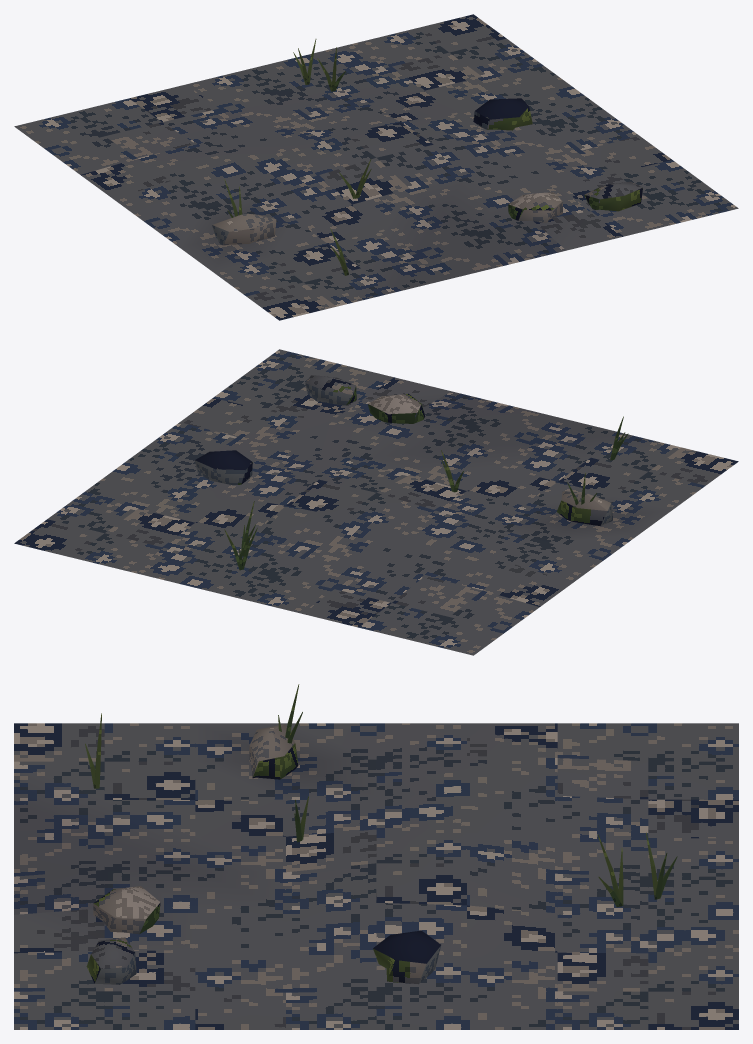
The model's file is lake.bed.glb.
The picture shows the model from 3 angles, top to bottom: view 1: azimuth 30°, elevation 25°; view 2: azimuth 150°, elevation 25°; view 3: azimuth 270°, elevation 25°; orthographic projection. The views are drawn at different scales.
Visible parts, largest first — view 1: kit_shell_bed, kit_rocks, kit_weeds; view 2: kit_shell_bed, kit_rocks, kit_weeds; view 3: kit_shell_bed, kit_rocks, kit_weeds.
Part boxes in pixels (x1,y1,x2,y2): kit_shell_bed: (14,14,738,320); kit_rocks: (212,98,642,245); kit_weeds: (224,39,371,275); kit_shell_bed: (14,349,738,655); kit_rocks: (194,375,612,525); kit_weeds: (224,416,628,570); kit_shell_bed: (14,723,738,1029); kit_rocks: (86,724,441,984); kit_weeds: (85,684,677,907).
Size of the model in its own units: 8 by 0.9612 by 8.
4 materials, 4 textured.
